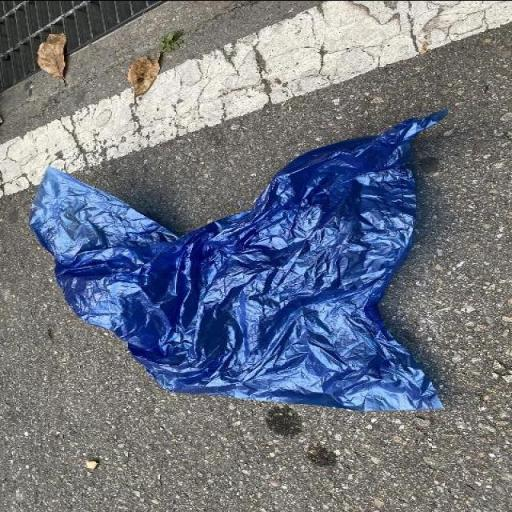plastic-bag: (24, 107, 452, 414)
